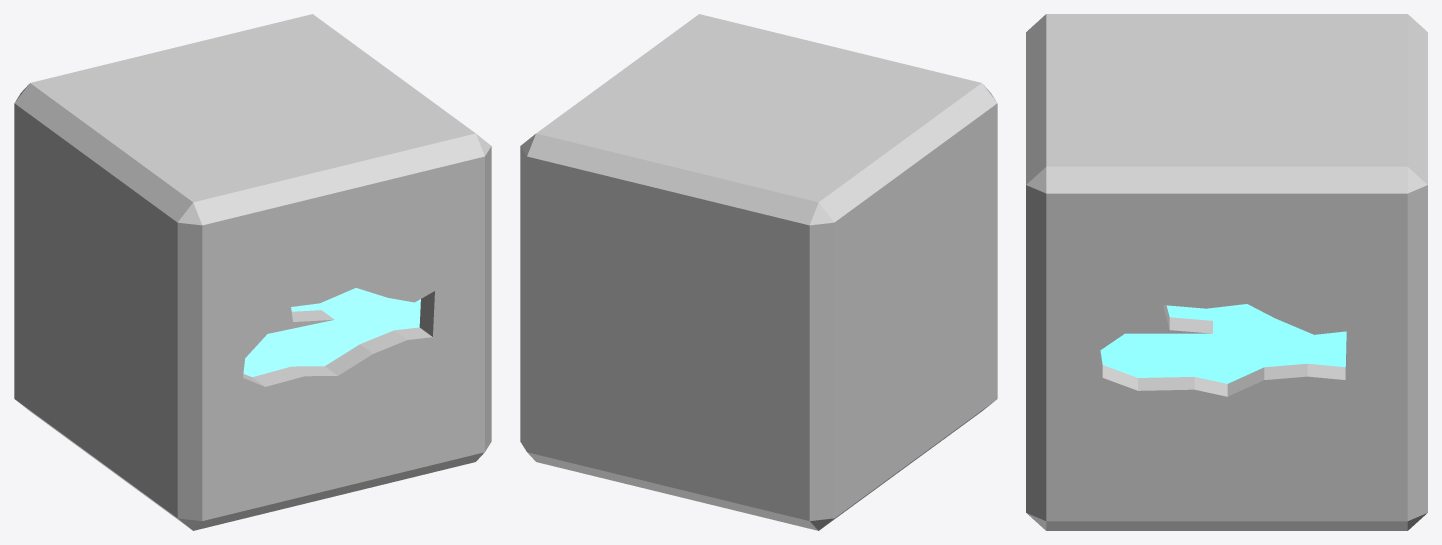
Rendered from Kupel.fbx.
The picture shows the model from 3 angles, left to right: view 1: azimuth 30°, elevation 25°; view 2: azimuth 150°, elevation 25°; view 3: azimuth 270°, elevation 25°; orthographic projection. The views are drawn at different scales.
Parts seen in each view (by area): view 1: Cube.007; view 2: Cube.007; view 3: Cube.007.
Boxes of the visible parts, x1,y1,x2,y2 form: Cube.007: (14, 14, 491, 530); Cube.007: (520, 14, 997, 530); Cube.007: (1026, 14, 1427, 530).
Size of the model in its own units: 119 by 119 by 119.
